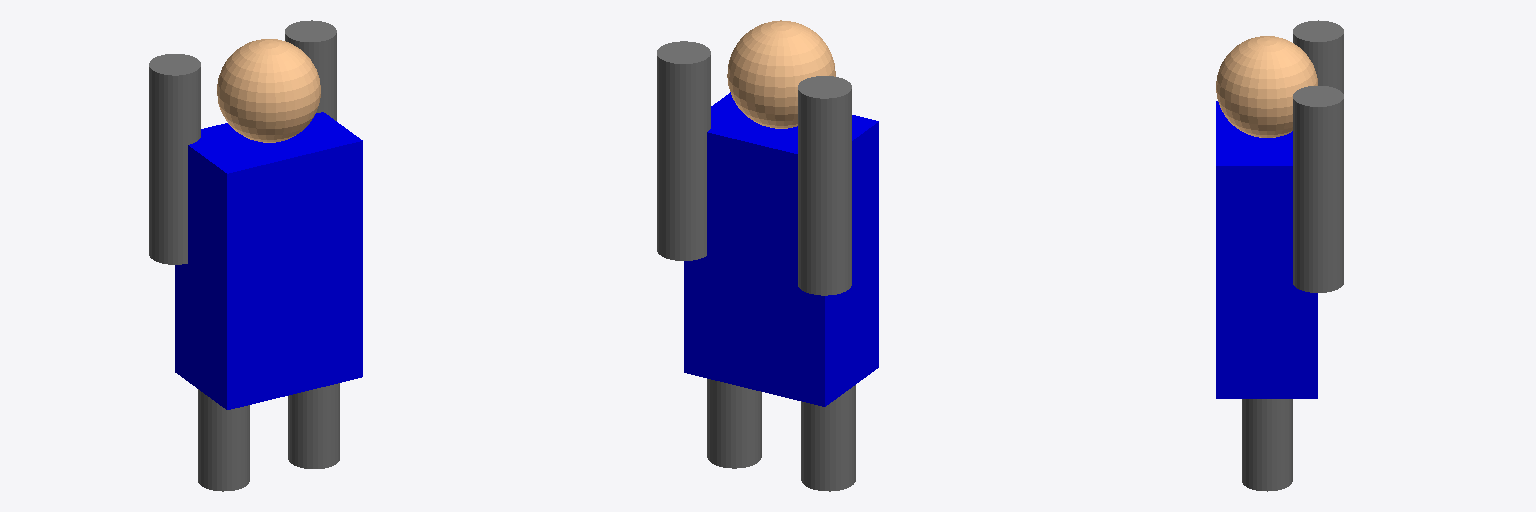
robot.urdf — humanoid_robot:
<?xml version="1.0"?>
<robot name="humanoid_robot">
  <!-- Torso -->
  <link name="torso">
    <visual>
      <geometry>
        <box size="0.3 0.2 0.5"/>
      </geometry>
      <material name="blue">
        <color rgba="0.0 0.0 1.0 1.0"/>
      </material>
    </visual>
    <collision>
      <geometry>
        <box size="0.3 0.2 0.5"/>
      </geometry>
    </collision>
    <inertial>
      <mass value="10.0"/>
      <origin xyz="0 0 0" rpy="0 0 0"/>
      <inertia ixx="0.1" ixy="0.0" ixz="0.0" iyy="0.1" iyz="0.0" izz="0.1"/>
    </inertial>
  </link>

  <!-- Head -->
  <link name="head">
    <visual>
      <geometry>
        <sphere radius="0.1"/>
      </geometry>
      <material name="skin">
        <color rgba="1.0 0.8 0.6 1.0"/>
      </material>
    </visual>
    <collision>
      <geometry>
        <sphere radius="0.1"/>
      </geometry>
    </collision>
    <inertial>
      <mass value="2.0"/>
      <origin xyz="0 0 0.25" rpy="0 0 0"/>
      <inertia ixx="0.02" ixy="0.0" ixz="0.0" iyy="0.02" iyz="0.0" izz="0.02"/>
    </inertial>
  </link>
  <joint name="neck_joint" type="fixed">
    <parent link="torso"/>
    <child link="head"/>
    <origin xyz="0 0 0.35" rpy="0 0 0"/>
  </joint>

  <!-- Left Arm -->
  <link name="left_arm">
    <visual>
      <geometry>
        <cylinder radius="0.05" length="0.4"/>
      </geometry>
      <material name="grey">
        <color rgba="0.5 0.5 0.5 1.0"/>
      </material>
    </visual>
    <collision>
      <geometry>
        <cylinder radius="0.05" length="0.4"/>
      </geometry>
    </collision>
    <inertial>
      <mass value="3.0"/>
      <origin xyz="0 0 0" rpy="0 0 0"/>
      <inertia ixx="0.03" ixy="0.0" ixz="0.0" iyy="0.03" iyz="0.0" izz="0.03"/>
    </inertial>
  </link>
  <joint name="left_shoulder_joint" type="revolute">
    <parent link="torso"/>
    <child link="left_arm"/>
    <origin xyz="0.15 0.1 0.2" rpy="0 0 0"/>
    <axis xyz="0 1 0"/>
    <limit lower="-1.57" upper="1.57" effort="10" velocity="1.0"/>
  </joint>

  <!-- Right Arm -->
  <link name="right_arm">
    <visual>
      <geometry>
        <cylinder radius="0.05" length="0.4"/>
      </geometry>
      <material name="grey">
        <color rgba="0.5 0.5 0.5 1.0"/>
      </material>
    </visual>
    <collision>
      <geometry>
        <cylinder radius="0.05" length="0.4"/>
      </geometry>
    </collision>
    <inertial>
      <mass value="3.0"/>
      <origin xyz="0 0 0" rpy="0 0 0"/>
      <inertia ixx="0.03" ixy="0.0" ixz="0.0" iyy="0.03" iyz="0.0" izz="0.03"/>
    </inertial>
  </link>
  <joint name="right_shoulder_joint" type="revolute">
    <parent link="torso"/>
    <child link="right_arm"/>
    <origin xyz="-0.15 0.1 0.2" rpy="0 0 0"/>
    <axis xyz="0 1 0"/>
    <limit lower="-1.57" upper="1.57" effort="10" velocity="1.0"/>
  </joint>

  <!-- Left Leg -->
  <link name="left_leg">
    <visual>
      <geometry>
        <cylinder radius="0.05" length="0.4"/>
      </geometry>
      <material name="grey">
        <color rgba="0.5 0.5 0.5 1.0"/>
      </material>
    </visual>
    <collision>
      <geometry>
        <cylinder radius="0.05" length="0.4"/>
      </geometry>
    </collision>
    <inertial>
      <mass value="5.0"/>
      <origin xyz="0 0 0" rpy="0 0 0"/>
      <inertia ixx="0.05" ixy="0.0" ixz="0.0" iyy="0.05" iyz="0.0" izz="0.05"/>
    </inertial>
  </link>
  <joint name="left_hip_joint" type="revolute">
    <parent link="torso"/>
    <child link="left_leg"/>
    <origin xyz="0.1 0 -0.25" rpy="0 0 0"/>
    <axis xyz="1 0 0"/>
    <limit lower="-1.57" upper="1.57" effort="10" velocity="1.0"/>
  </joint>

  <!-- Right Leg -->
  <link name="right_leg">
    <visual>
      <geometry>
        <cylinder radius="0.05" length="0.4"/>
      </geometry>
      <material name="grey">
        <color rgba="0.5 0.5 0.5 1.0"/>
      </material>
    </visual>
    <collision>
      <geometry>
        <cylinder radius="0.05" length="0.4"/>
      </geometry>
    </collision>
    <inertial>
      <mass value="5.0"/>
      <origin xyz="0 0 0" rpy="0 0 0"/>
      <inertia ixx="0.05" ixy="0.0" ixz="0.0" iyy="0.05" iyz="0.0" izz="0.05"/>
    </inertial>
  </link>
  <joint name="right_hip_joint" type="revolute">
    <parent link="torso"/>
    <child link="right_leg"/>
    <origin xyz="-0.1 0 -0.25" rpy="0 0 0"/>
    <axis xyz="1 0 0"/>
    <limit lower="-1.57" upper="1.57" effort="10" velocity="1.0"/>
  </joint>
</robot>

--- Render facts (derived) ---
Views: 3 orthographic renders of the robot side by side, from view 1: azimuth 30°, elevation 25°; view 2: azimuth 150°, elevation 25°; view 3: azimuth 270°, elevation 25°.
Robot: humanoid_robot — 6 links, 5 joints (4 revolute, 1 fixed); root link torso; default pose: every joint at zero.
Visible links, largest first — view 1: torso, right_arm, head, right_leg, left_leg, left_arm; view 2: torso, right_arm, left_arm, head, right_leg, left_leg; view 3: torso, left_arm, head, left_leg, right_arm.
Link boxes in pixels (x1,y1,x2,y2): torso: [175, 112, 362, 409]; right_arm: [149, 54, 200, 264]; head: [217, 39, 320, 142]; right_leg: [198, 389, 249, 491]; left_leg: [288, 383, 339, 468]; left_arm: [285, 20, 336, 120]; torso: [684, 92, 878, 406]; right_arm: [798, 76, 851, 295]; left_arm: [657, 41, 710, 260]; head: [727, 20, 835, 128]; right_leg: [801, 385, 855, 491]; left_leg: [707, 379, 761, 468]; torso: [1216, 101, 1317, 398]; left_arm: [1293, 86, 1343, 292]; head: [1216, 36, 1317, 137]; left_leg: [1242, 399, 1292, 491]; right_arm: [1293, 20, 1343, 93].
Size in the robot's own frame: 0.4 by 0.25 by 0.9 metres.
Geometry: primitives only (box / cylinder / sphere), no mesh files.